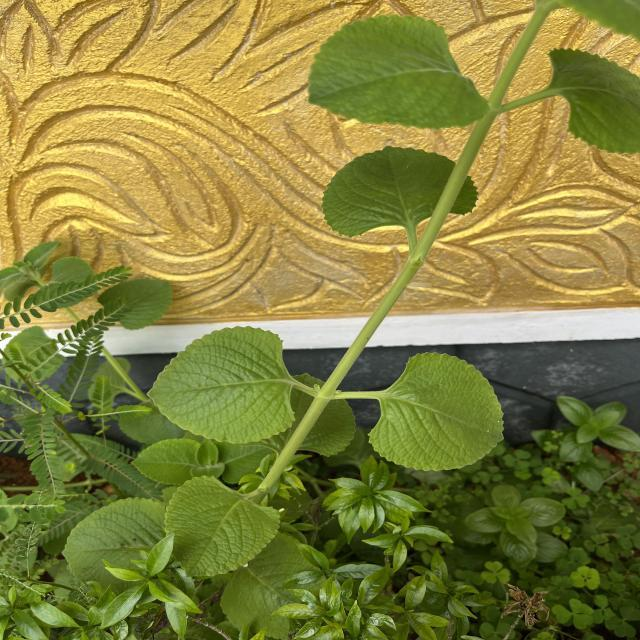Plectranthus barbatus: (306, 13, 492, 131), (146, 324, 298, 445), (367, 350, 507, 472), (320, 143, 480, 240), (164, 474, 280, 578), (130, 438, 201, 486)
